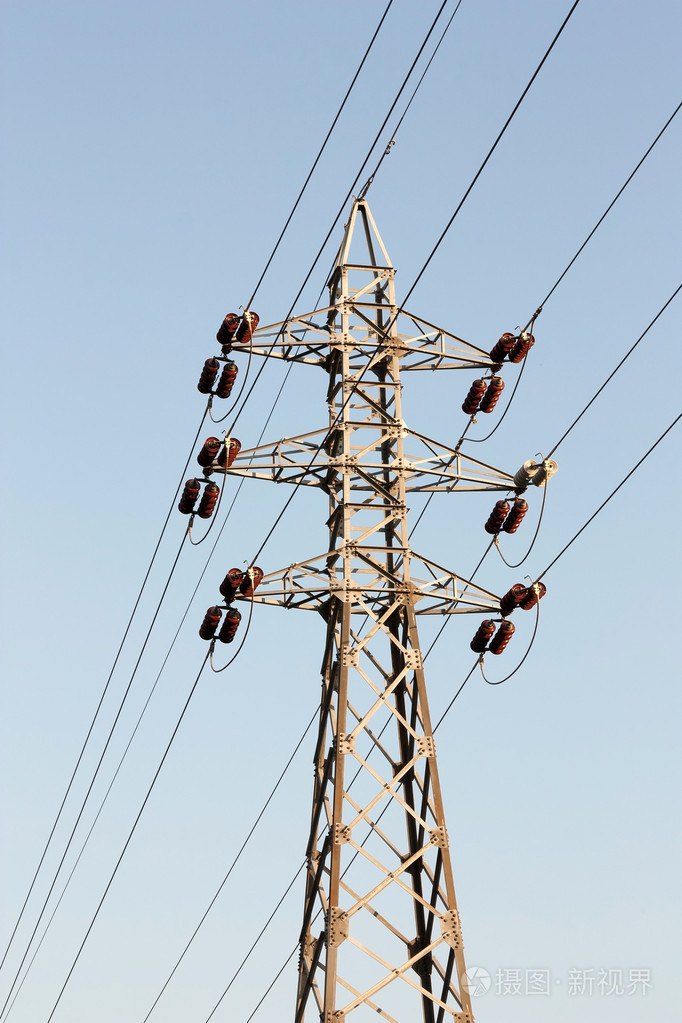insulator: (177, 476, 222, 519), (199, 356, 241, 397), (217, 564, 264, 599), (486, 498, 527, 537), (197, 433, 241, 469), (464, 374, 504, 413), (198, 604, 240, 641), (489, 332, 537, 363), (474, 622, 513, 656), (215, 313, 255, 346), (501, 583, 543, 612)
